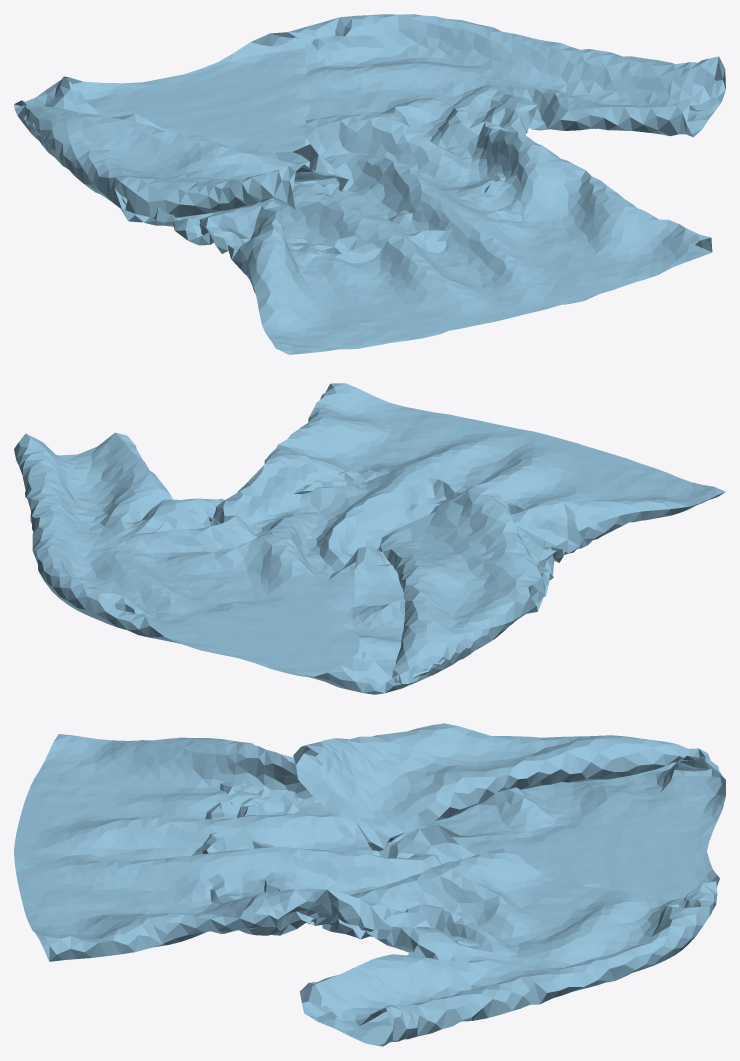
Rendered from frame_00.glb.
3 views of the same model, one above another, from view 1: azimuth 30°, elevation 25°; view 2: azimuth 150°, elevation 25°; view 3: azimuth 270°, elevation 25° (orthographic). The views are drawn at different scales.
Parts seen in each view (by area): view 1: frame_00.obj; view 2: frame_00.obj; view 3: frame_00.obj.
Part boxes in pixels (left/top/right/bottom): frame_00.obj: left=14, top=14, right=725, bottom=354; frame_00.obj: left=14, top=383, right=725, bottom=694; frame_00.obj: left=14, top=723, right=725, bottom=1046.
Size of the model in its own units: 1.63 by 0.182 by 1.58.
